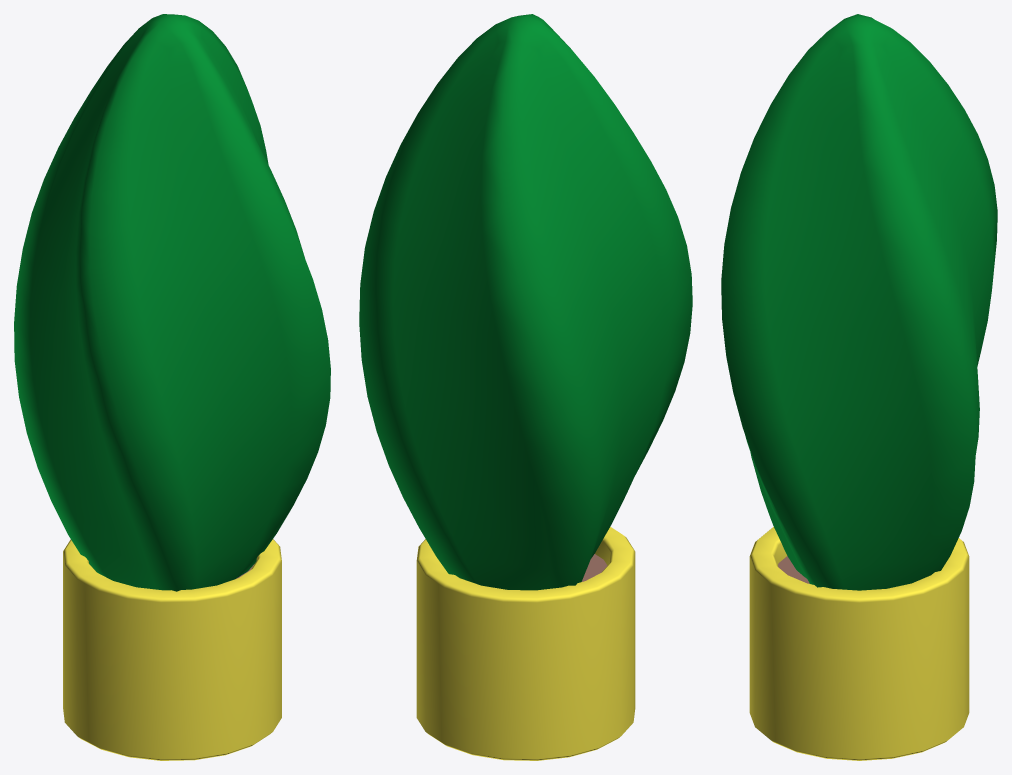
File: Town_15_Plant_1.glb
3 views of the same model, side by side, from view 1: azimuth 30°, elevation 25°; view 2: azimuth 150°, elevation 25°; view 3: azimuth 270°, elevation 25° (orthographic).
Visible parts, largest first — view 1: Town_15_Plant_1; view 2: Town_15_Plant_1; view 3: Town_15_Plant_1.
Part boxes in pixels (x1,y1,x2,y2): Town_15_Plant_1: (14,14,330,760); Town_15_Plant_1: (359,14,692,760); Town_15_Plant_1: (721,14,997,760).
Bounding box in the file's own units: 0.711 × 1.98 × 0.711.
1 material, 1 textured.
